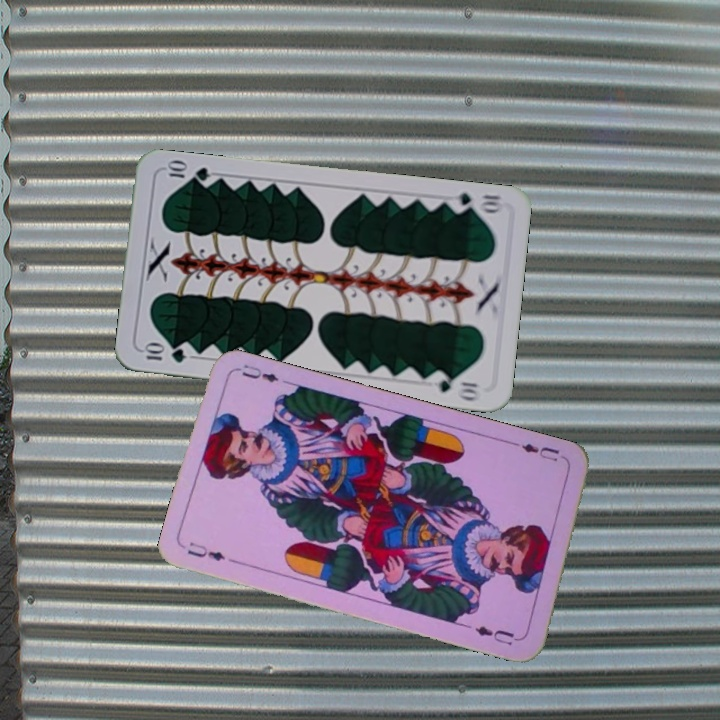EU: (511, 438, 569, 464), (183, 538, 228, 564)
G10: (446, 188, 506, 217), (139, 341, 189, 365)
